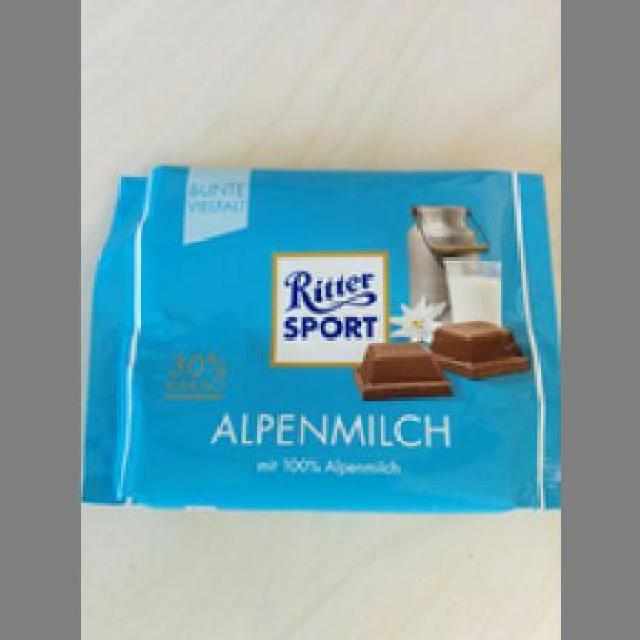Chocolate bar: (80, 163, 554, 508)
